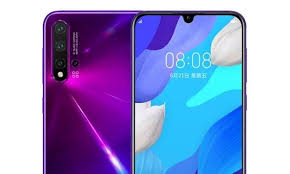huawei: (131, 7, 251, 174), (40, 10, 134, 173)
